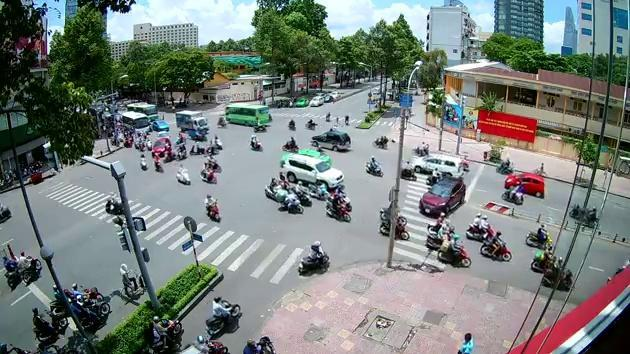xe buyt: (223, 103, 269, 125)
xe dap: (118, 262, 149, 301)
xe hoi: (284, 152, 344, 190), (417, 176, 465, 218), (411, 152, 462, 178), (503, 169, 544, 197), (309, 130, 350, 152), (150, 137, 170, 157), (152, 119, 169, 132)
xe may: (30, 305, 68, 343), (144, 314, 181, 353), (205, 295, 240, 336), (296, 239, 329, 276), (436, 232, 469, 267), (478, 229, 511, 261), (465, 211, 497, 243), (530, 244, 560, 273), (0, 255, 24, 289), (17, 249, 41, 282), (524, 222, 553, 249), (324, 194, 350, 221), (203, 193, 220, 222), (263, 176, 283, 200), (199, 158, 217, 184), (364, 154, 383, 176), (174, 163, 190, 184), (280, 136, 298, 153), (247, 132, 262, 152), (371, 134, 387, 150), (137, 152, 147, 171)
xe tai: (175, 109, 209, 134)
